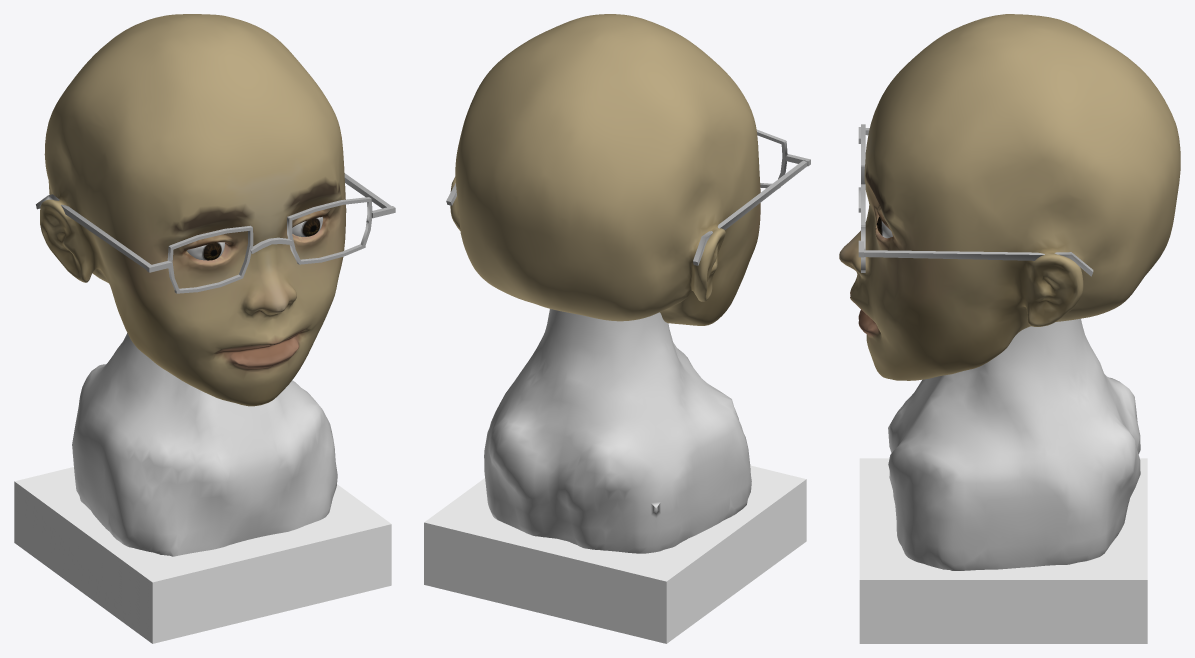
Rendered from HU FACE HEADS.fbx.
The picture shows the model from 3 angles, left to right: view 1: azimuth 30°, elevation 25°; view 2: azimuth 150°, elevation 25°; view 3: azimuth 270°, elevation 25°; orthographic projection. The views are drawn at different scales.
Visible parts, largest first — view 1: PolySphere.002, Cube.001, pCube24.002, PM3D_Sphere3D1.002; view 2: PolySphere.002, Cube.001, pCube24.002; view 3: PolySphere.002, Cube.001, pCube24.002.
Boxes of the visible parts, left/top/right/bottom form: PolySphere.002: left=40, top=14, right=346, bottom=556; Cube.001: left=14, top=467, right=391, bottom=643; pCube24.002: left=36, top=173, right=395, bottom=293; PM3D_Sphere3D1.002: left=187, top=217, right=322, bottom=260; PolySphere.002: left=450, top=14, right=760, bottom=553; Cube.001: left=424, top=465, right=806, bottom=643; pCube24.002: left=446, top=129, right=810, bottom=265; PolySphere.002: left=839, top=14, right=1180, bottom=570; Cube.001: left=859, top=458, right=1147, bottom=643; pCube24.002: left=858, top=124, right=1093, bottom=276.
Size of the model in its own units: 71.46 by 141 by 78.23.
